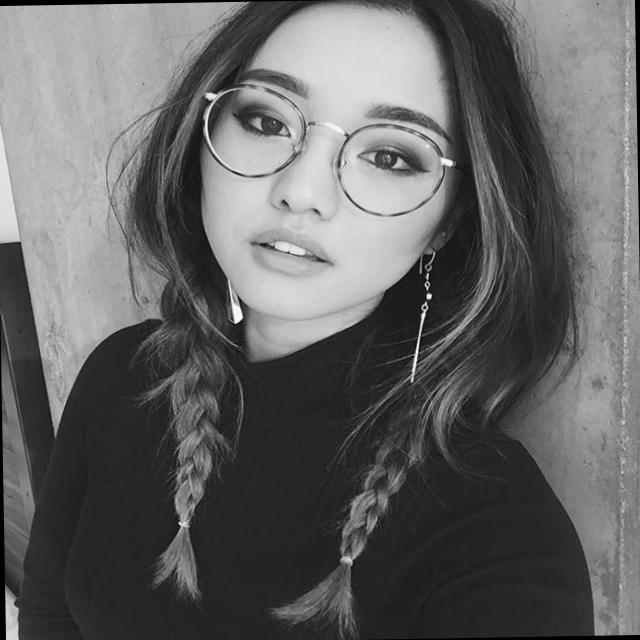glasses: (199, 78, 462, 224)
